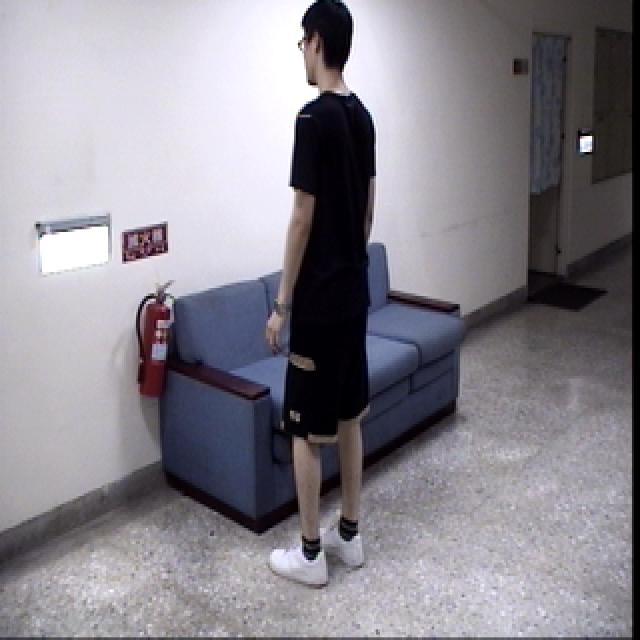stand: (266, 0, 389, 589)
